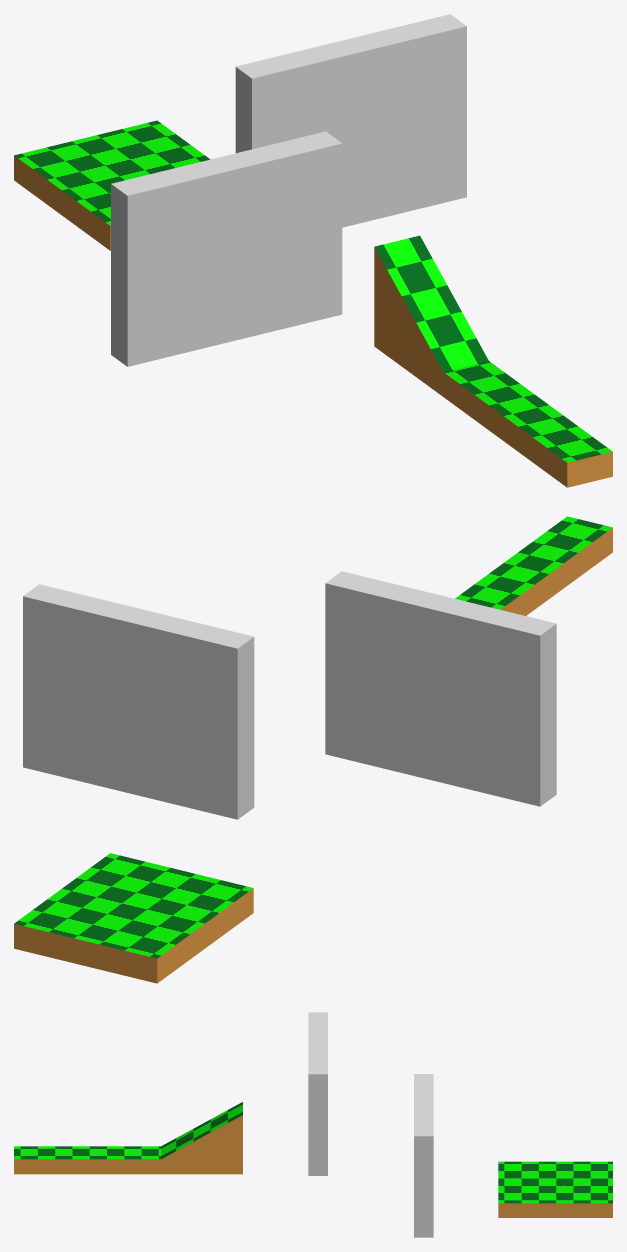
File: air-control.glb
3 views of the same model, one above another, from view 1: azimuth 30°, elevation 25°; view 2: azimuth 150°, elevation 25°; view 3: azimuth 270°, elevation 25° (orthographic). The views are drawn at different scales.
Parts seen in each view (by area): view 1: Cube.002, Cube.003, Cube, Cube.004, Cube.001; view 2: Cube.002, Cube.003, Cube.004, Cube; view 3: Cube.004, Cube, Cube.002, Cube.003, Cube.001.
Boxes of the visible parts, box(x1,y1,x2,y2) form: Cube.002: box(111, 131, 342, 366); Cube.003: box(235, 14, 466, 227); Cube: box(374, 322, 612, 487); Cube.004: box(14, 120, 210, 250); Cube.001: box(374, 235, 488, 371); Cube.002: box(325, 571, 556, 806); Cube.003: box(23, 584, 254, 819); Cube.004: box(14, 853, 253, 983); Cube: box(455, 516, 612, 615); Cube.004: box(498, 1161, 612, 1217); Cube: box(14, 1146, 242, 1174); Cube.002: box(308, 1012, 327, 1175); Cube.003: box(414, 1074, 433, 1237); Cube.001: box(161, 1102, 242, 1159).
Size of the model in its own units: 53.83 by 24.87 by 110.
Materials: 2 (2 with a texture image).
